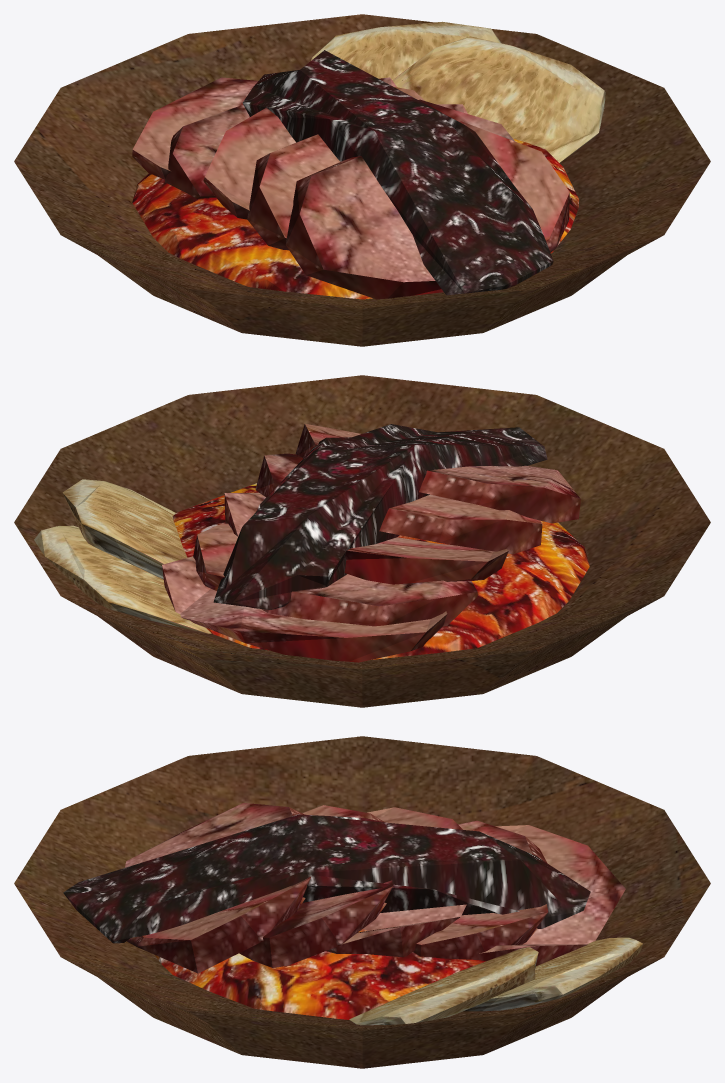
The model's file is ITFO_GS_ROAST_03.glb.
The picture shows the model from 3 angles, top to bottom: view 1: azimuth 30°, elevation 25°; view 2: azimuth 150°, elevation 25°; view 3: azimuth 270°, elevation 25°; orthographic projection.
Visible parts, largest first — view 1: ITFO_GS_ROAST_03; view 2: ITFO_GS_ROAST_03; view 3: ITFO_GS_ROAST_03.
Boxes of the visible parts, box(x1,y1,x2,y2) form: ITFO_GS_ROAST_03: box(14, 14, 710, 346); ITFO_GS_ROAST_03: box(14, 375, 710, 707); ITFO_GS_ROAST_03: box(14, 736, 710, 1068).
Size of the model in its own units: 0.3731 by 0.084 by 0.3731.
Materials: 3 (3 with a texture image).
